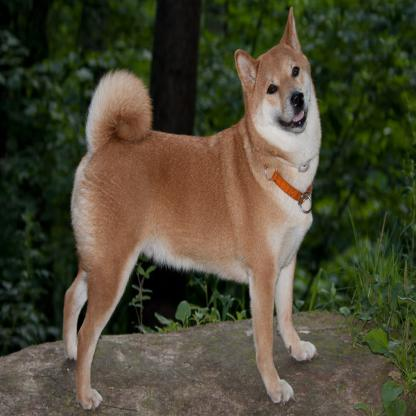Siba-ny: (61, 7, 322, 410)
